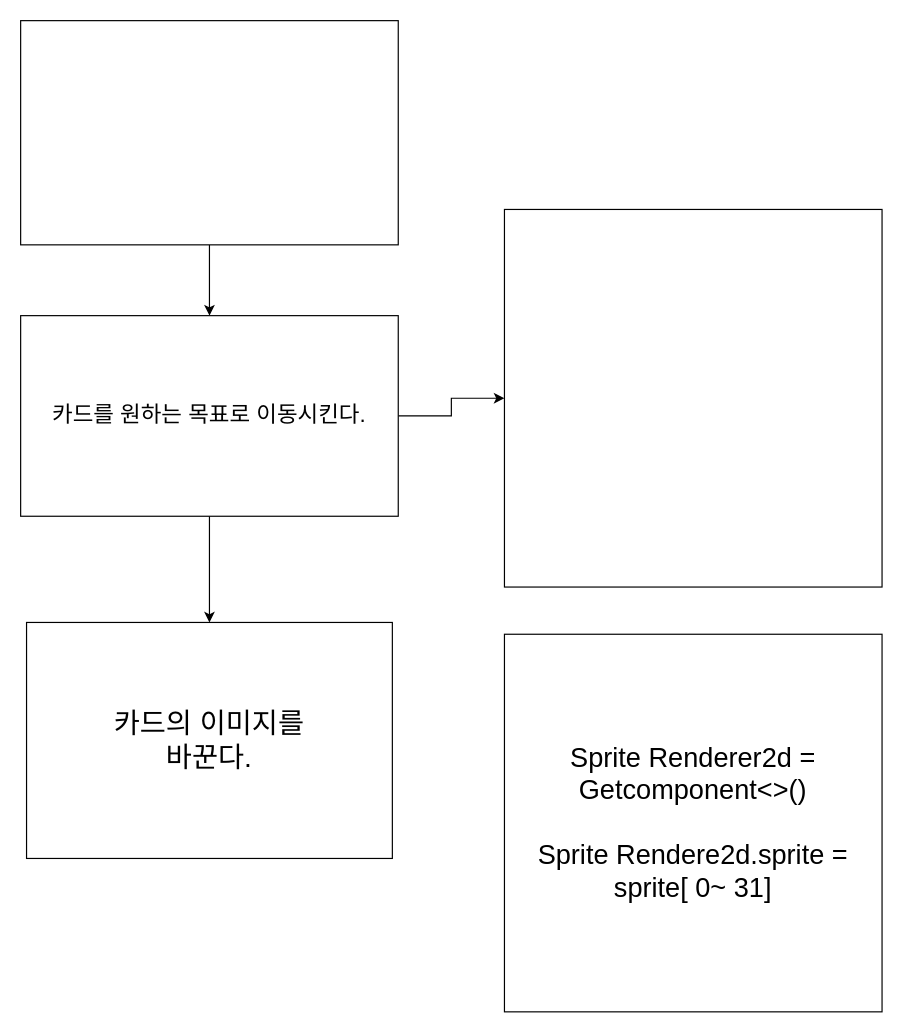
Some shapes in this 903 by 1033 pixel diagram are drawn without their labels. Here are the shapes that lost their labels. From the top down, the centre of each, then its label:
At (x=208, y=132): "카드를 1장 만든다.".
At (x=692, y=397): "Vector3. MoveToward() rigidbody2d. MovePosition".
